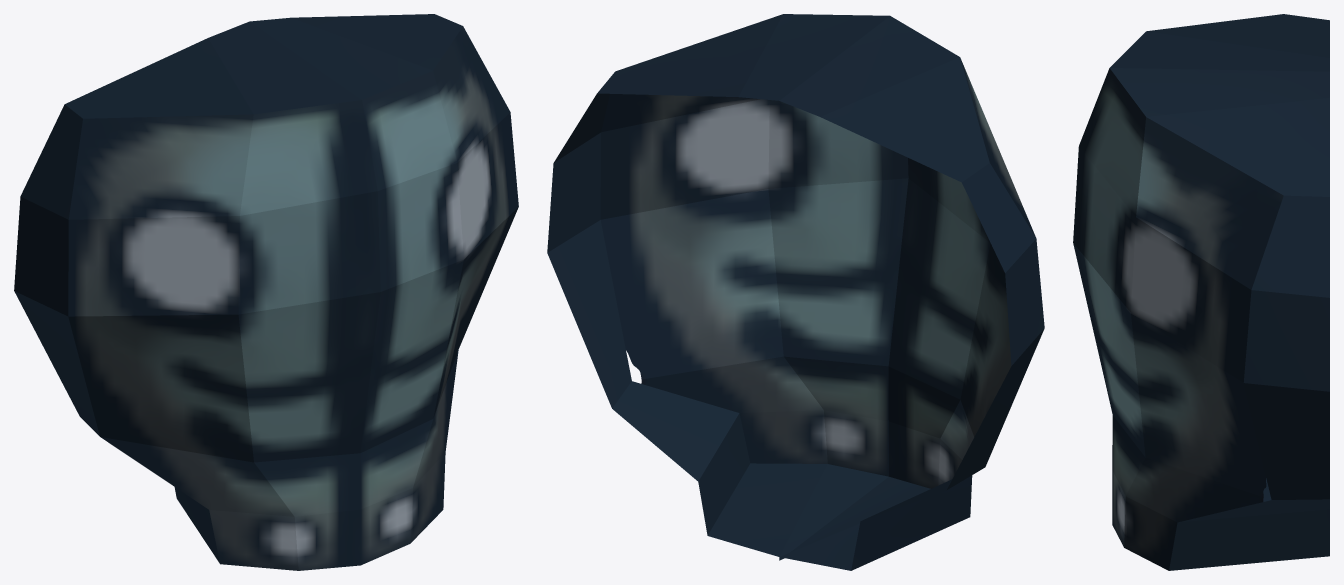
Rendered from Mascara1.fbx.
3 views of the same model, side by side, from view 1: azimuth 30°, elevation 25°; view 2: azimuth 150°, elevation 25°; view 3: azimuth 270°, elevation 25° (orthographic). The views are drawn at different scales.
Parts seen in each view (by area): view 1: Mascara1; view 2: Mascara1; view 3: Mascara1.
Part boxes in pixels (left/top/right/bottom): Mascara1: left=14, top=14, right=518, bottom=570; Mascara1: left=547, top=14, right=1044, bottom=570; Mascara1: left=1073, top=14, right=1329, bottom=570.
Size of the model in its own units: 55.37 by 26.7 by 52.86.
